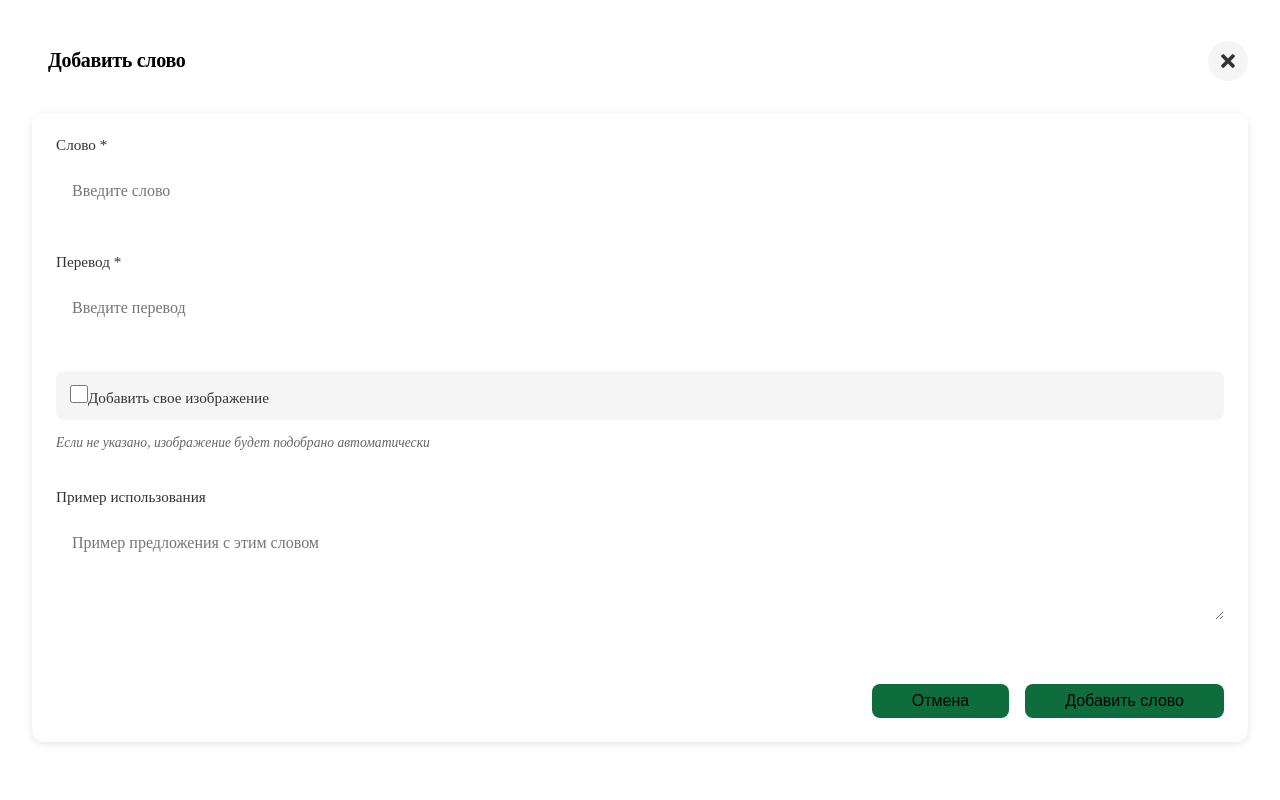
Scenario: AddWord Component › валидирует обязательные поля
Click the button "Добавить слово" at [1125, 701], box top-left (1025, 684), bottom-right (1224, 718)
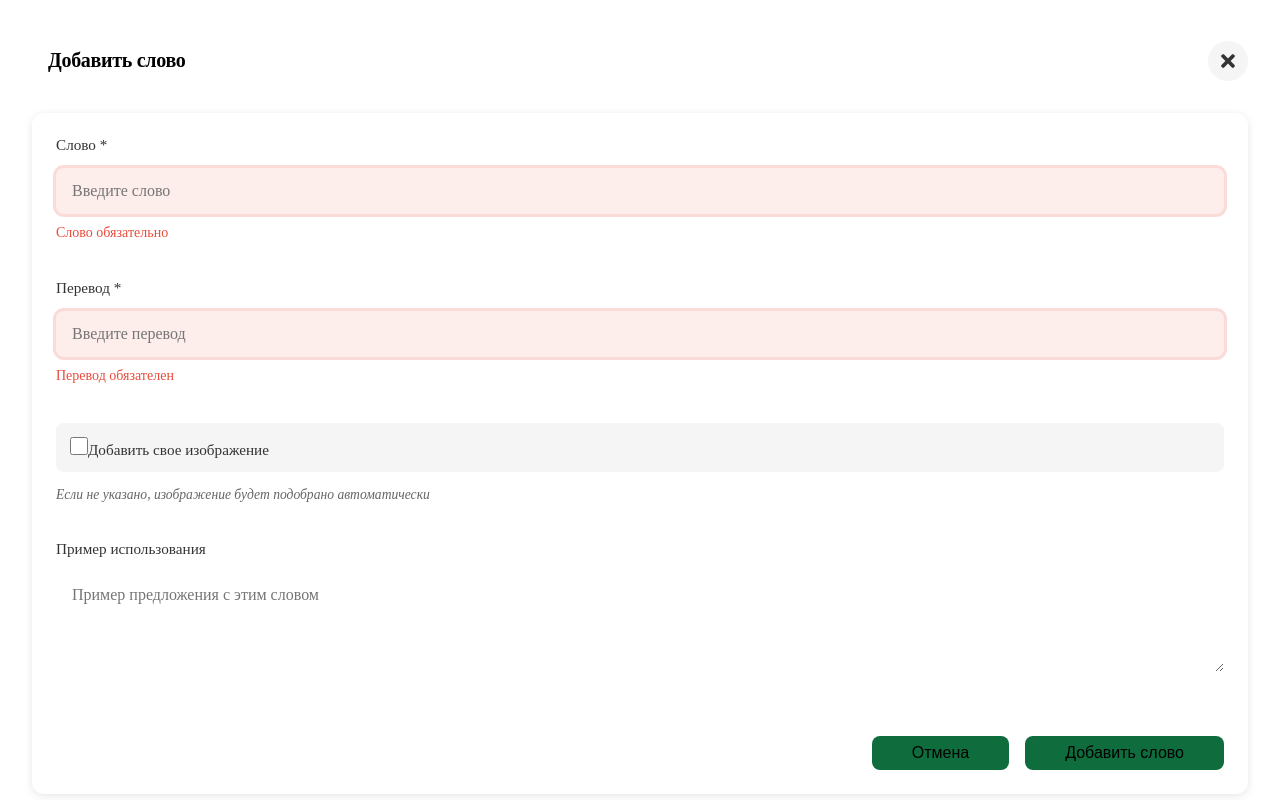
Expected: the text "Слово обязательно" is shown, top-left (56, 225), bottom-right (168, 240)
